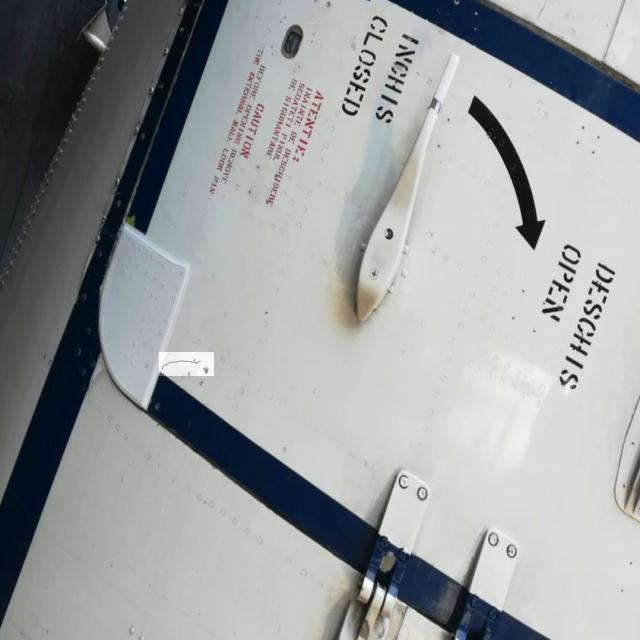crack: (160, 354, 215, 378)
